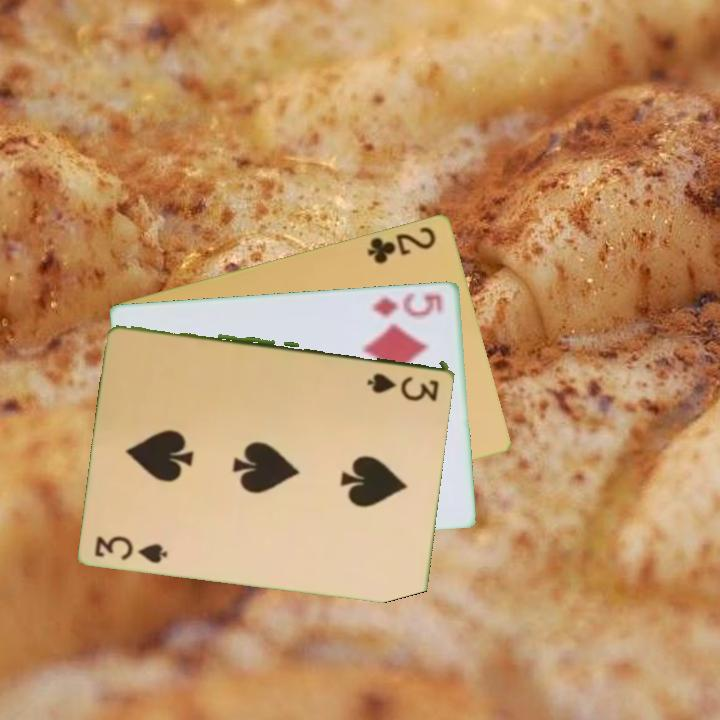2c: (364, 222, 439, 266)
3s: (91, 532, 171, 566), (363, 369, 442, 398)
5d: (369, 289, 446, 320)
